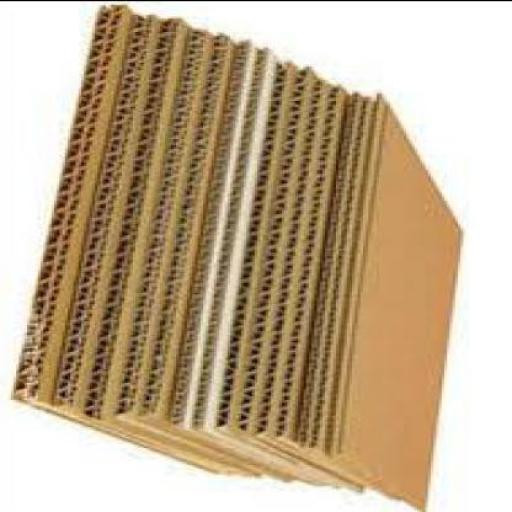cardboard: (16, 2, 466, 510), (330, 88, 466, 510)
